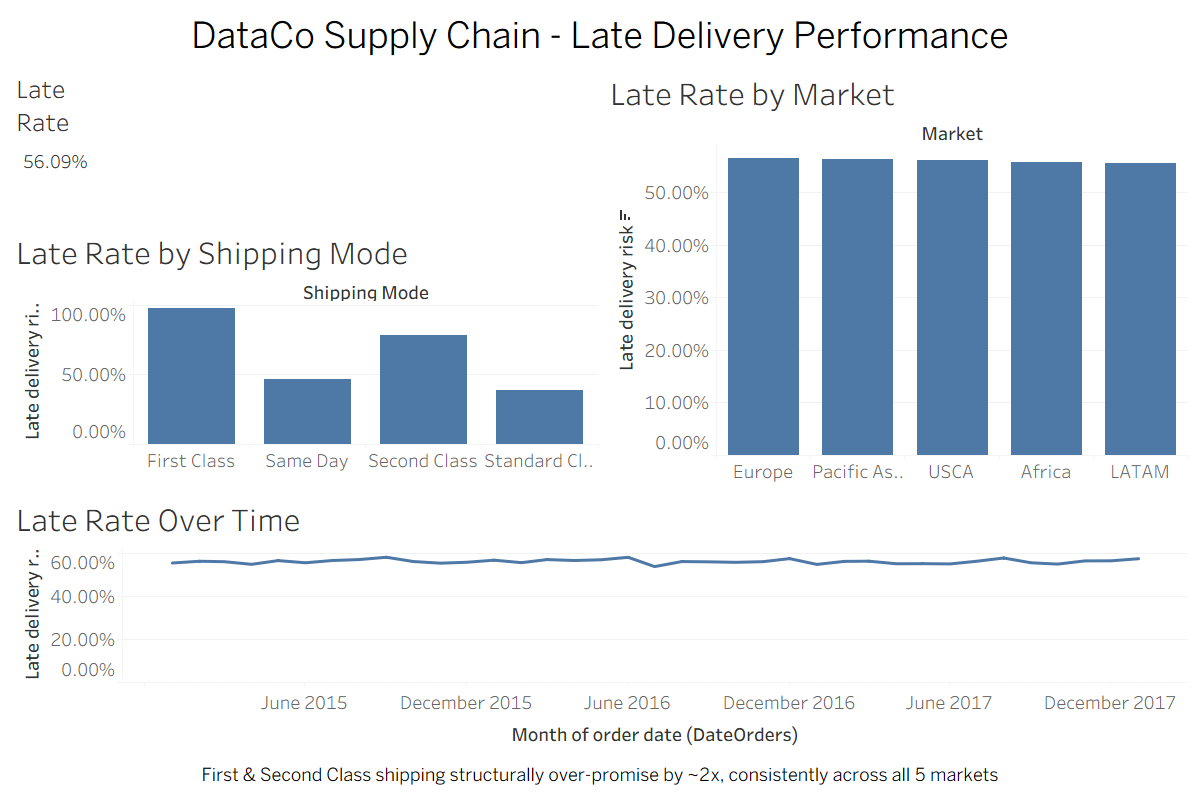

What the dashboard file says about the page in this screenshot:
{"tool":"tableau","page":{"name":"Dashboard 1","canvas":[1200,800],"ordinal":0},"visuals":[{"type":"title","box":[8,8,1184,54]},{"type":"worksheet","title":"Overall Late","mark":"Automatic","box":[8,62,594,159.2]},{"type":"worksheet","title":"Late Rate by Market","mark":"Automatic","rows":["Late_delivery_risk"],"cols":["Market"],"box":[602,62,590,425.9]},{"type":"worksheet","title":"Late Rate by Shipping Mode","mark":"Automatic","rows":["Late_delivery_risk"],"cols":["Shipping Mode"],"box":[8,221.2,594,266.7]},{"type":"worksheet","title":"Late Rate Over Time","mark":"Automatic","rows":["Late_delivery_risk"],"cols":["order date (DateOrders)"],"box":[8,487.9,1184,269.1]},{"type":"text","box":[8,757,1184,35]}]}

Visuals, with their boxes in screenshot pixels (x1, y1, x2, y2), scaled from the page's 1200x800 canvas onto the 1200x800 screenshot:
title: x1=8 y1=8 x2=1192 y2=62
"Overall Late" worksheet: x1=8 y1=62 x2=602 y2=221
"Late Rate by Market" worksheet: x1=602 y1=62 x2=1192 y2=488
"Late Rate by Shipping Mode" worksheet: x1=8 y1=221 x2=602 y2=488
"Late Rate Over Time" worksheet: x1=8 y1=488 x2=1192 y2=757
text: x1=8 y1=757 x2=1192 y2=792
